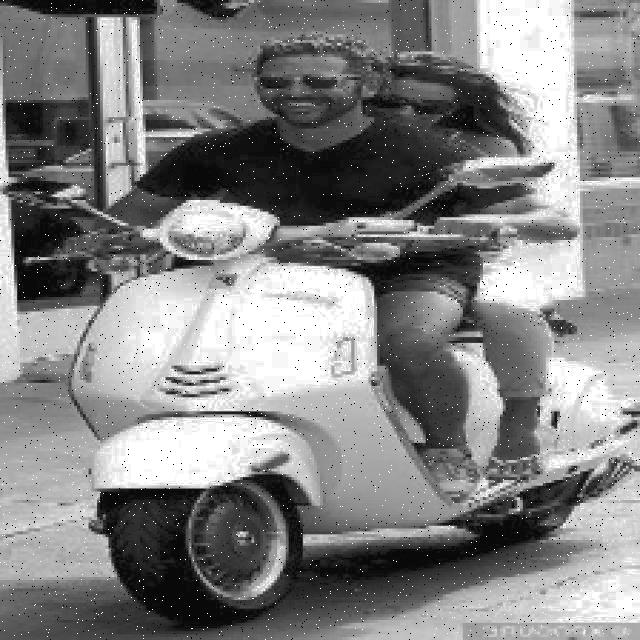Bike: (39, 202, 543, 610)
